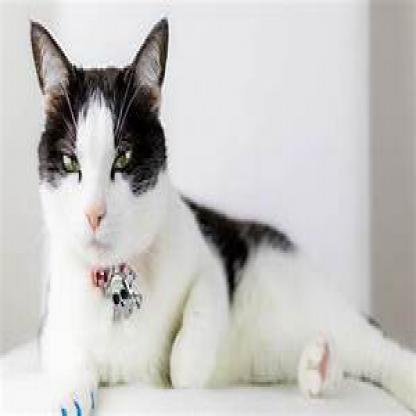cat: (21, 12, 366, 414)
